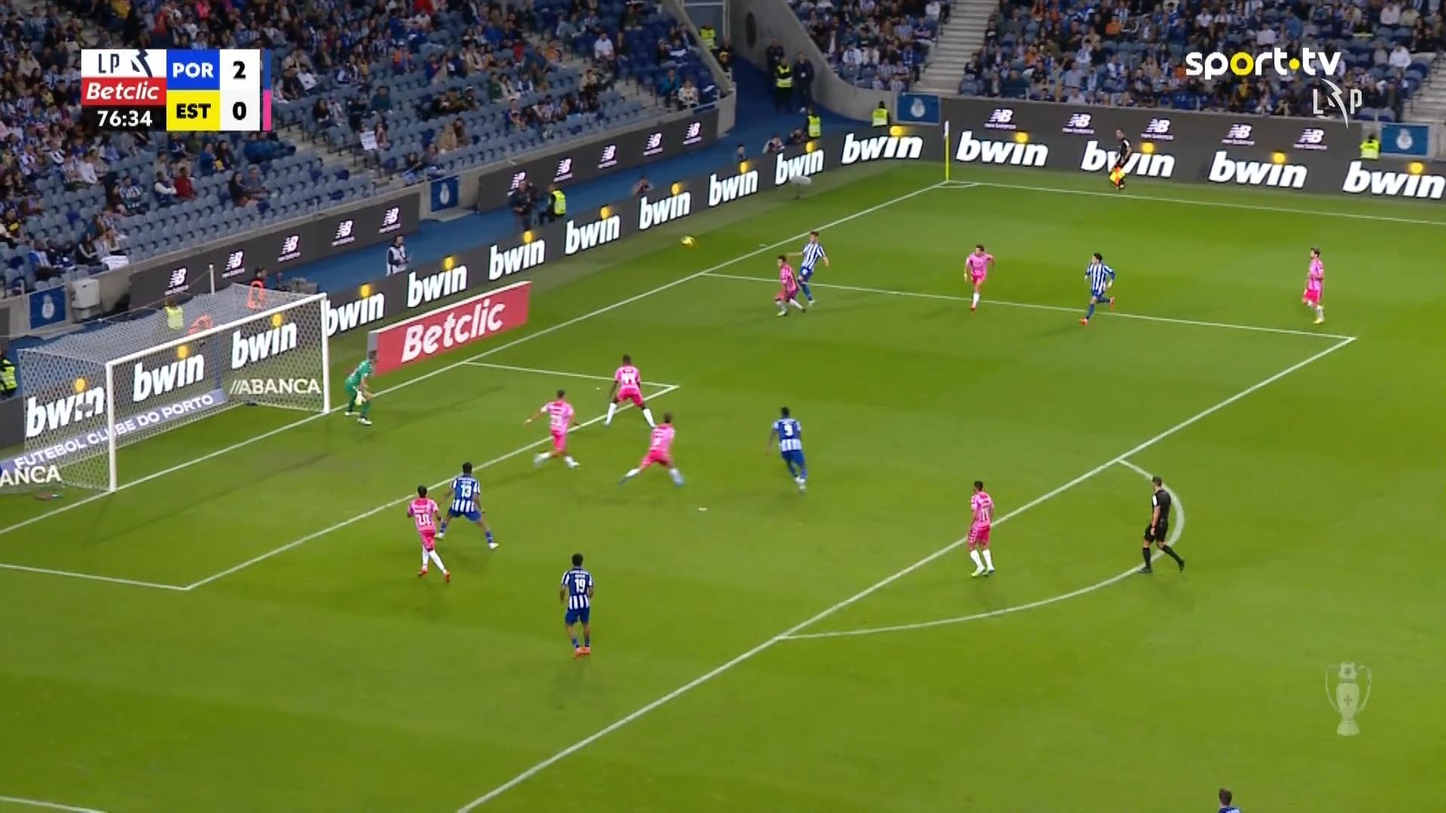ball: (680, 236, 694, 246)
goalkeeper: (343, 349, 377, 425)
player: (434, 461, 498, 550), (618, 411, 685, 487), (523, 388, 581, 468), (406, 484, 451, 583), (602, 353, 656, 429), (557, 552, 594, 656), (764, 405, 808, 492), (966, 480, 996, 577), (1078, 251, 1116, 325), (795, 230, 828, 306), (963, 243, 994, 311), (773, 254, 805, 316), (1301, 246, 1326, 324), (1216, 787, 1240, 811)
referee: (1137, 474, 1185, 574), (1108, 127, 1131, 190)
